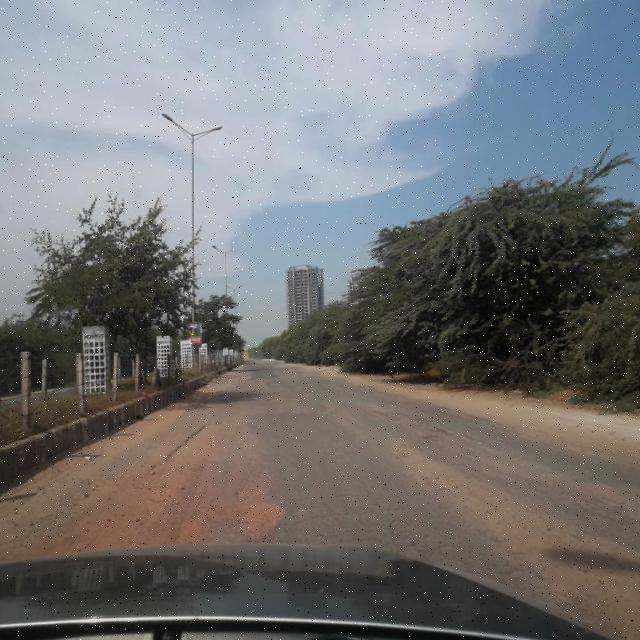D00: (150, 422, 219, 469)
D20: (292, 456, 478, 539)
D40: (18, 466, 204, 556), (493, 454, 640, 526), (377, 390, 489, 454), (474, 545, 578, 609), (217, 476, 289, 537)
